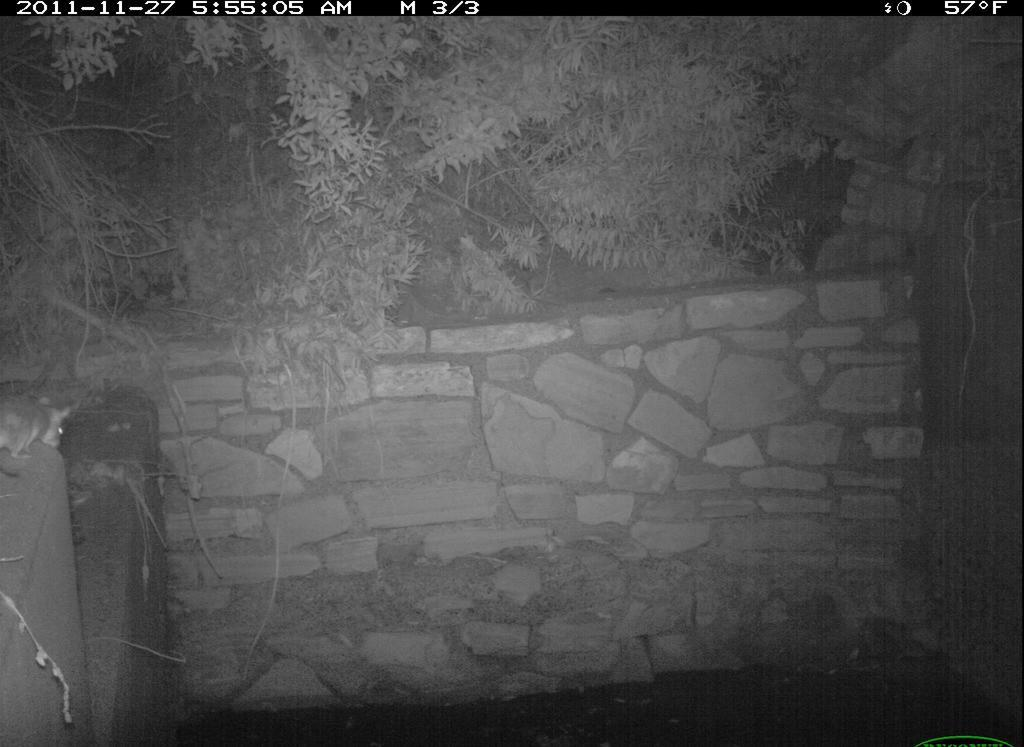rodent: (1, 387, 85, 484)
